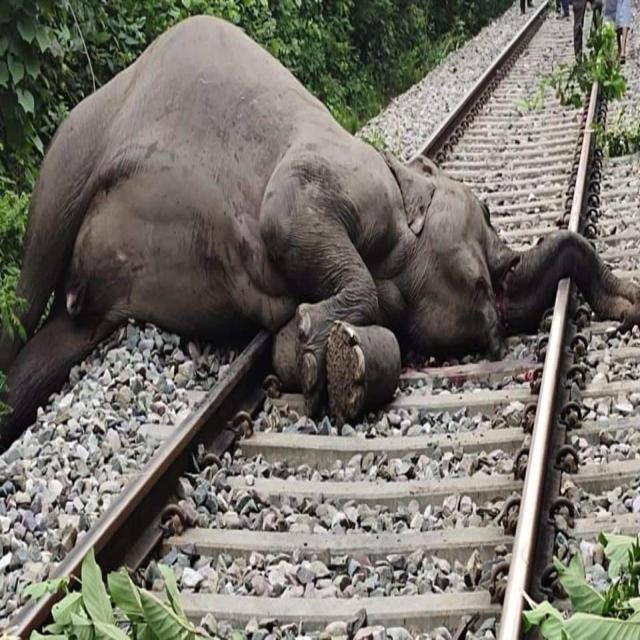Elephant: (10, 0, 640, 416)
